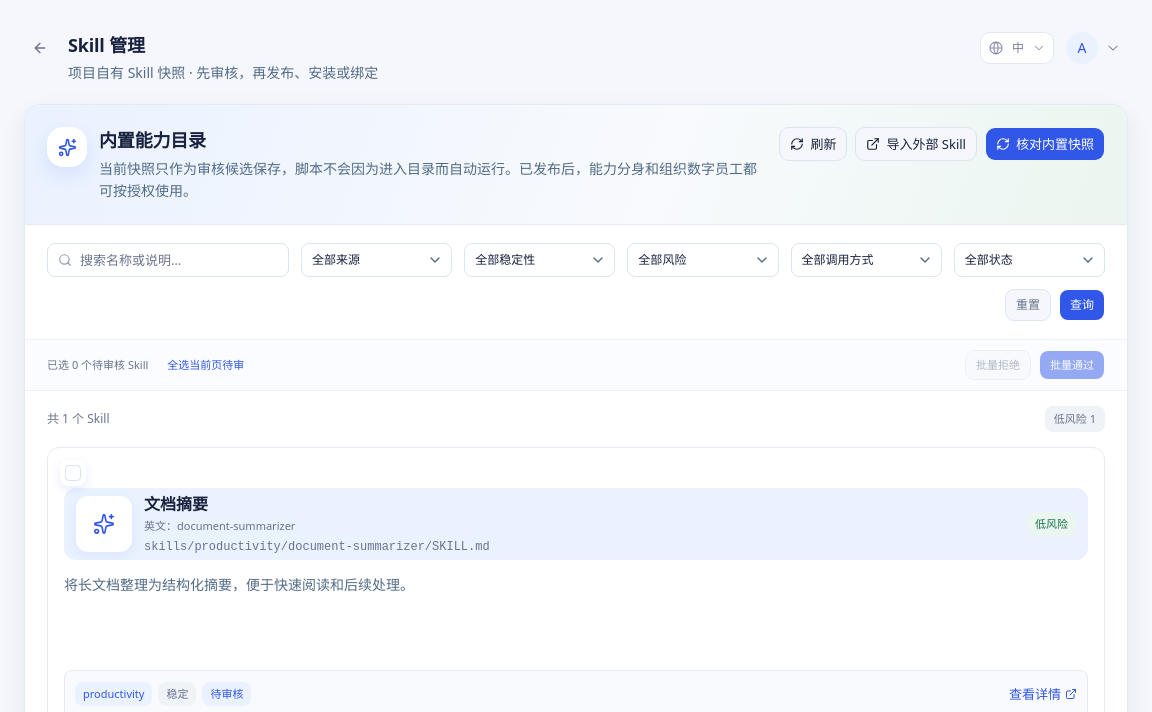
Test case: Skill 管理 › 管理员可以从候选卡片进入详情并默认阅读中文解读
This screenshot has width=1152, height=712.
Expected: the text "文档摘要" is shown, x1=144 y1=492 x2=1015 y2=556
What coordinates should you click on to do the following:
click the link "查看详情"
I would click on:
 (1043, 694)
Its box is x1=1009 y1=684 x2=1077 y2=704.
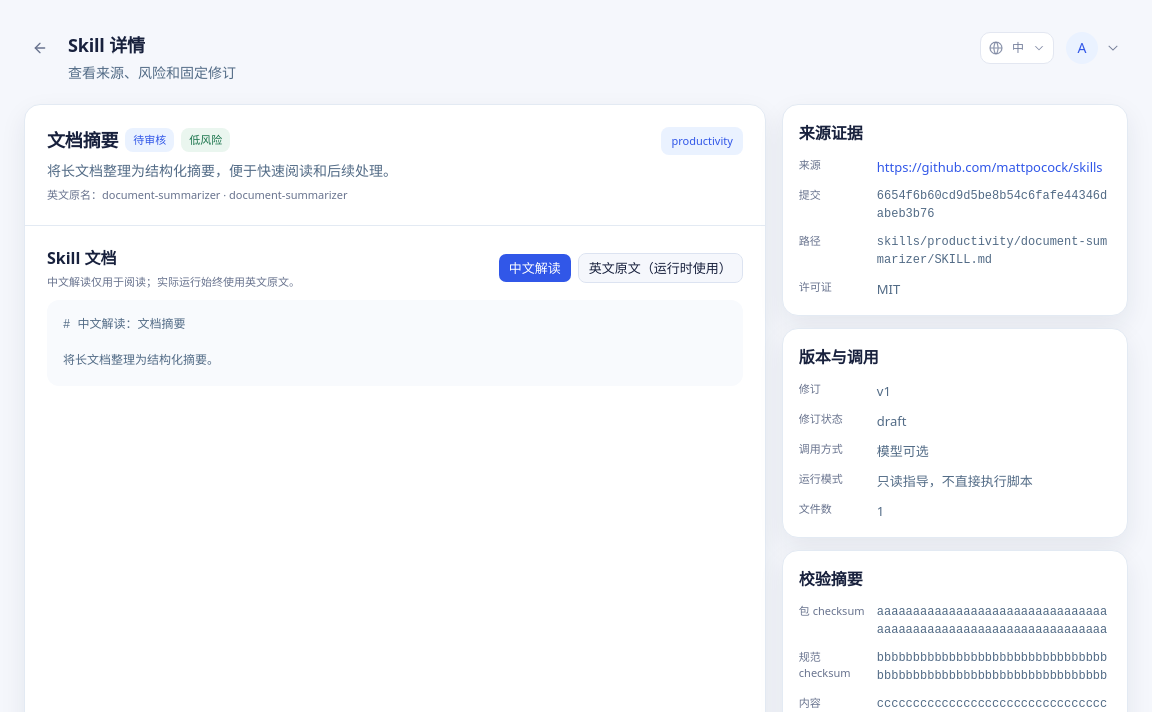
Now the heading "Skill 文档" is shown, box x1=47 y1=247 x2=116 y2=269
Now the text "6654f6b60cd9d5be8b54c6fafe44346dabeb3b76" is shown, box x1=877 y1=187 x2=1111 y2=223
Now the text "# 中文解读：文档摘要 将长文档整理为结构化摘要。" is shown, box x1=47 y1=300 x2=743 y2=386
What coordinates should you click on to do the following:
click the button "英文原文（运行时使用）"
I would click on:
 (660, 268)
Its box is x1=578 y1=253 x2=743 y2=283.
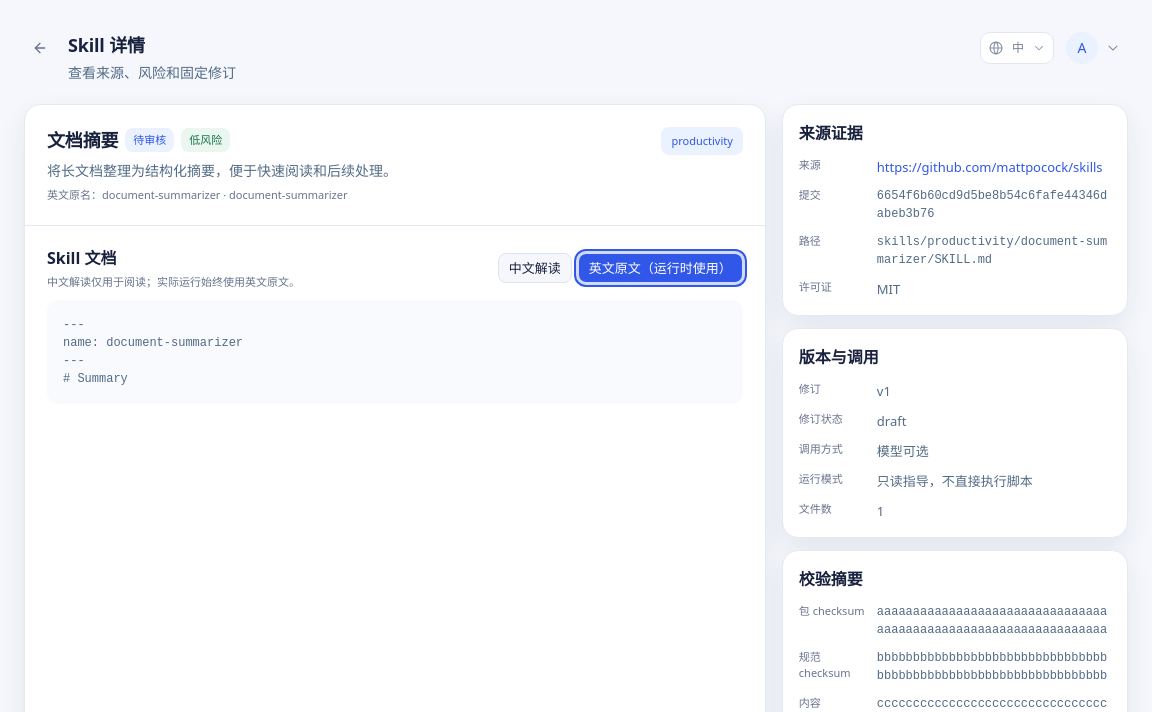
Now the text "--- name: document-summarizer --- # Summary" is shown, box x1=47 y1=300 x2=743 y2=404
